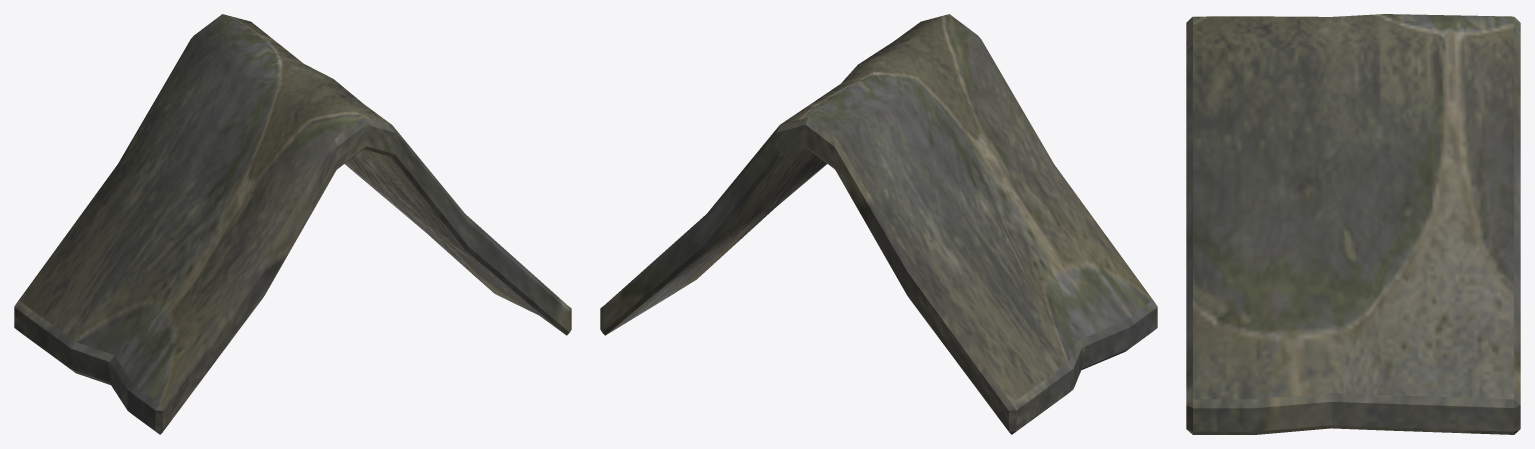
The model's file is ShingleCapB.fbx.
3 renders of one model, left to right at view 1: azimuth 30°, elevation 25°; view 2: azimuth 150°, elevation 25°; view 3: azimuth 270°, elevation 25°, orthographic. The views are drawn at different scales.
Visible parts, largest first — view 1: ShingleCap_LOD0; view 2: ShingleCap_LOD0; view 3: ShingleCap_LOD0.
Boxes of the visible parts, box(x1,y1,x2,y2) form: ShingleCap_LOD0: box(14, 14, 571, 434); ShingleCap_LOD0: box(600, 14, 1157, 434); ShingleCap_LOD0: box(1186, 14, 1520, 434).
Size of what is drawn, in the model's own units: 56.6 by 34.88 by 34.55.
